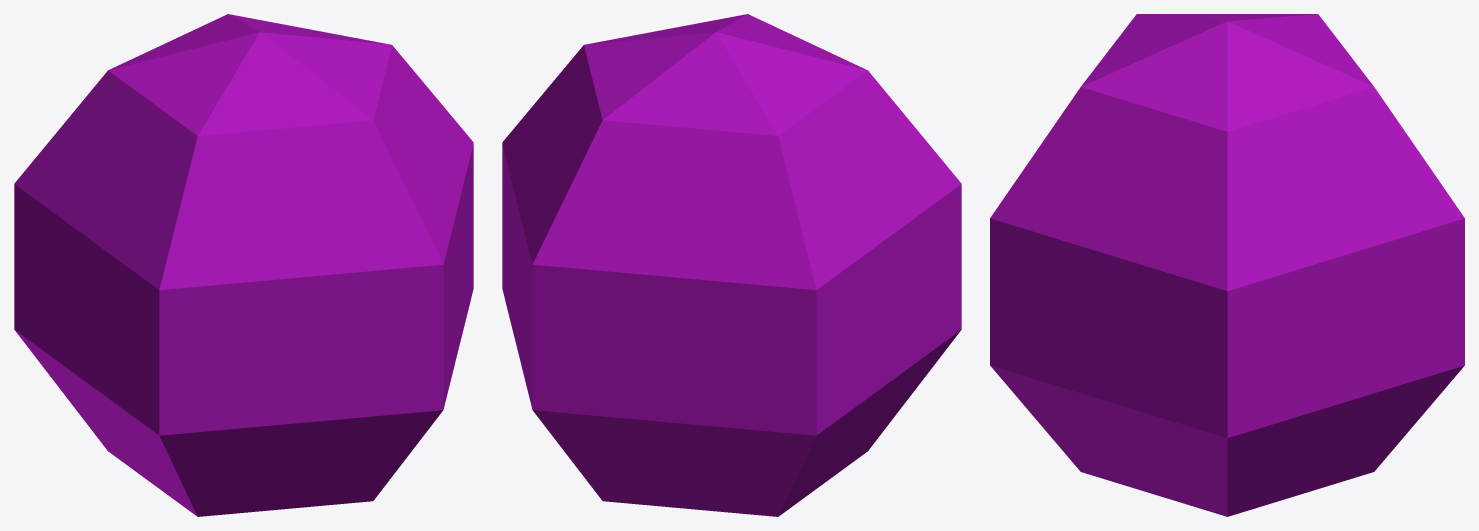
Rendered from trajectory_Magrnta.FBX.
The picture shows the model from 3 angles, left to right: view 1: azimuth 30°, elevation 25°; view 2: azimuth 150°, elevation 25°; view 3: azimuth 270°, elevation 25°; orthographic projection.
Parts seen in each view (by area): view 1: Sphere; view 2: Sphere; view 3: Sphere.
Boxes of the visible parts, x1,y1,x2,y2 form: Sphere: (14,14,473,516); Sphere: (502,14,961,516); Sphere: (990,14,1464,516).
Bounding box in the file's own units: 0.4301 × 0.4523 × 0.5.
